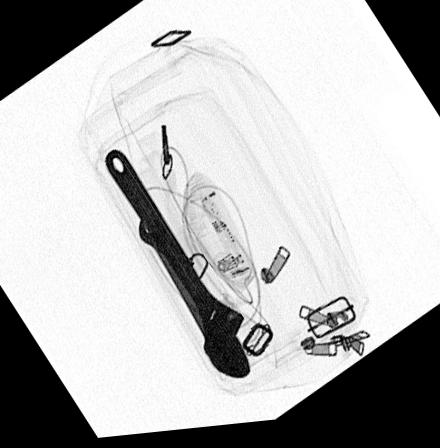Wrench: (103, 150, 251, 383)
